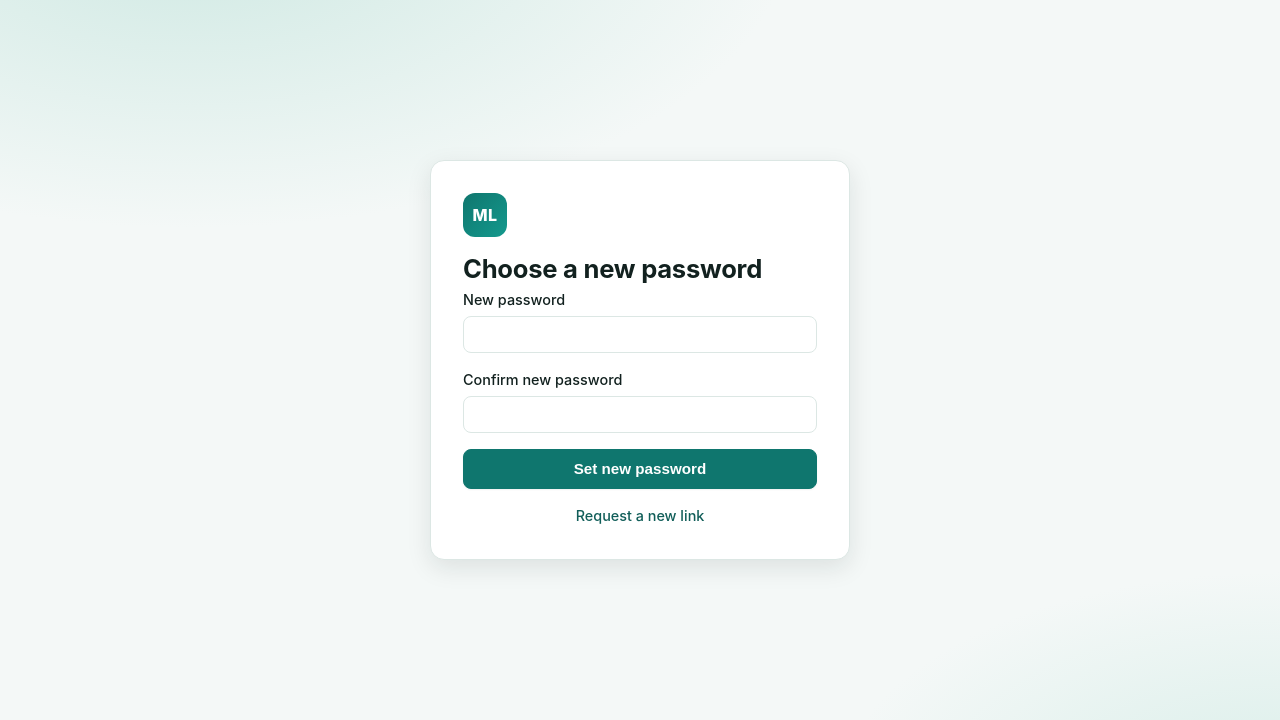
Test case: ResetPassword › sends the token and the new password, then offers sign in
The image size is (1280, 720).
Type "BrandNew123" into the password field labelled "New password" at (640, 335), box [463, 316, 817, 353]
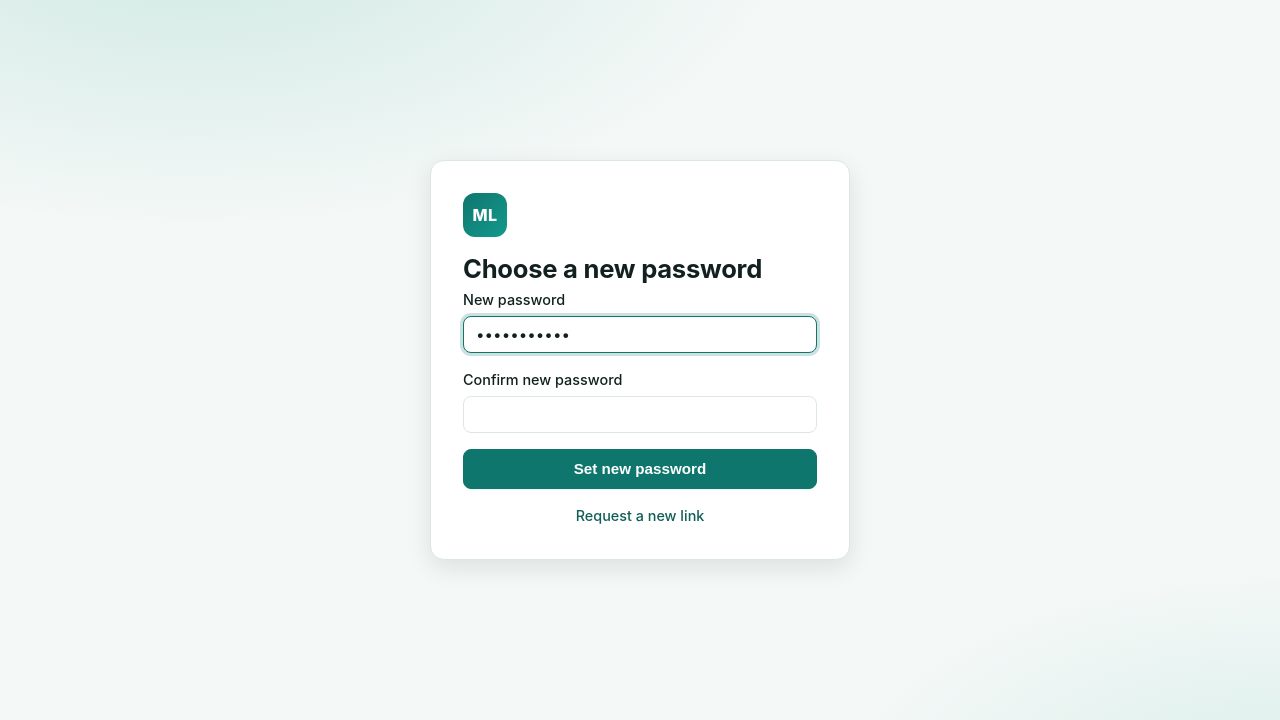
Type "BrandNew123" into the password field labelled "Confirm new password" at (640, 415), box [463, 396, 817, 433]
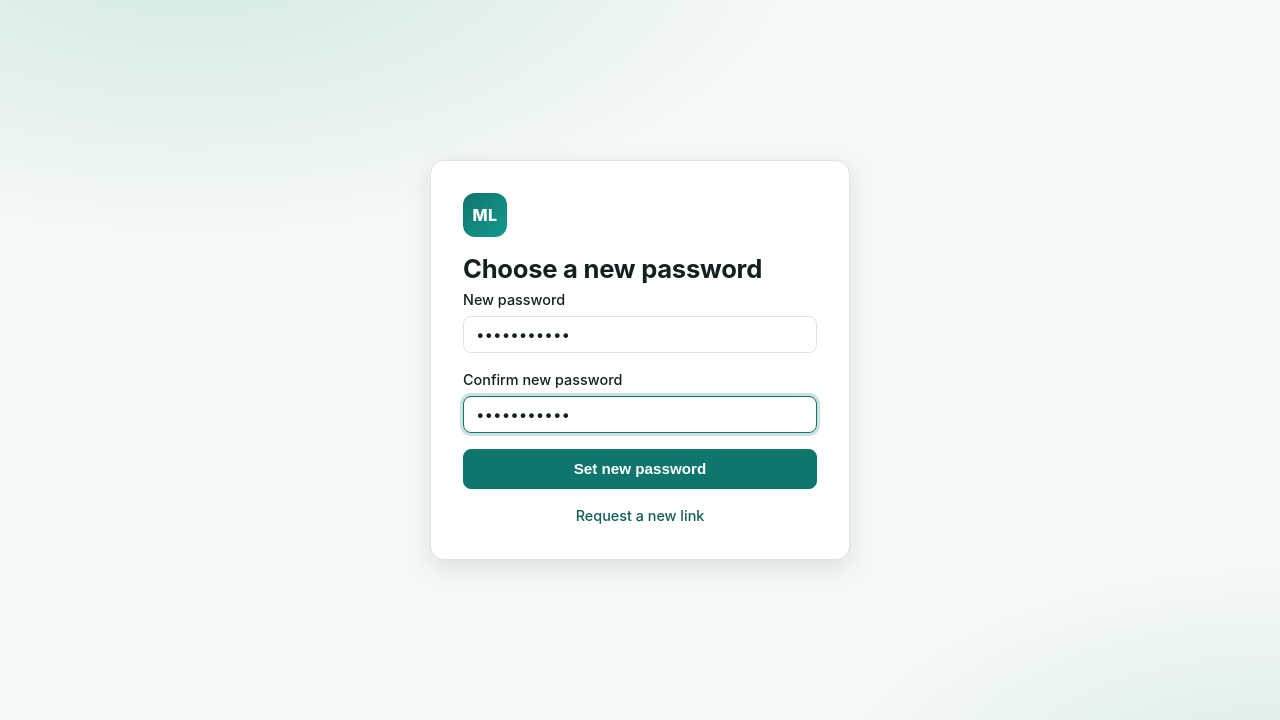
Click the button "Set new password" at (640, 469), box [463, 449, 817, 489]
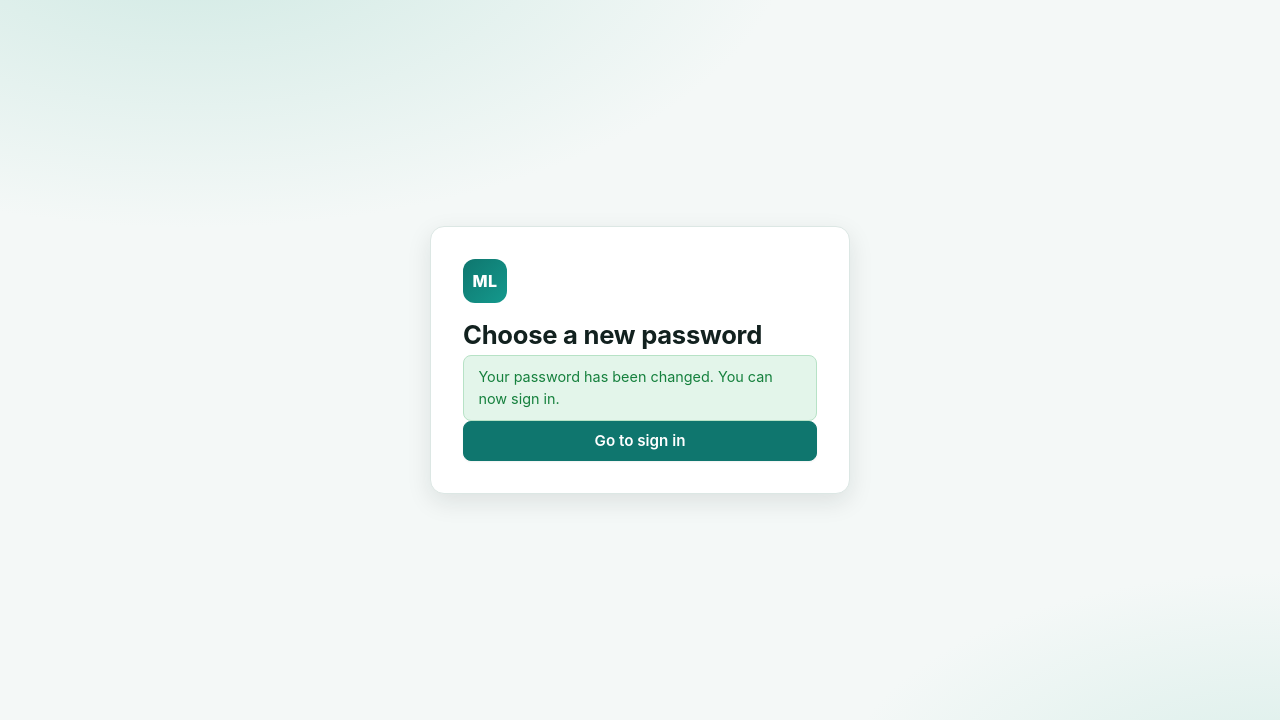
Result: the text "Your password has been changed. You can now sign in." is shown at [463, 355, 817, 421]
